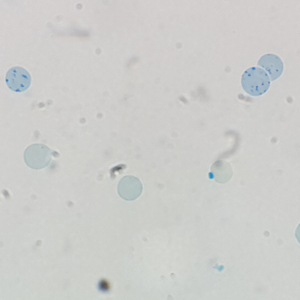aggregate reticulocyte: (240, 65, 273, 97), (256, 52, 285, 82), (4, 65, 33, 94)
erythrocyte: (116, 173, 145, 202), (207, 159, 235, 185)
punctate reticulocyte: (22, 142, 55, 171)
